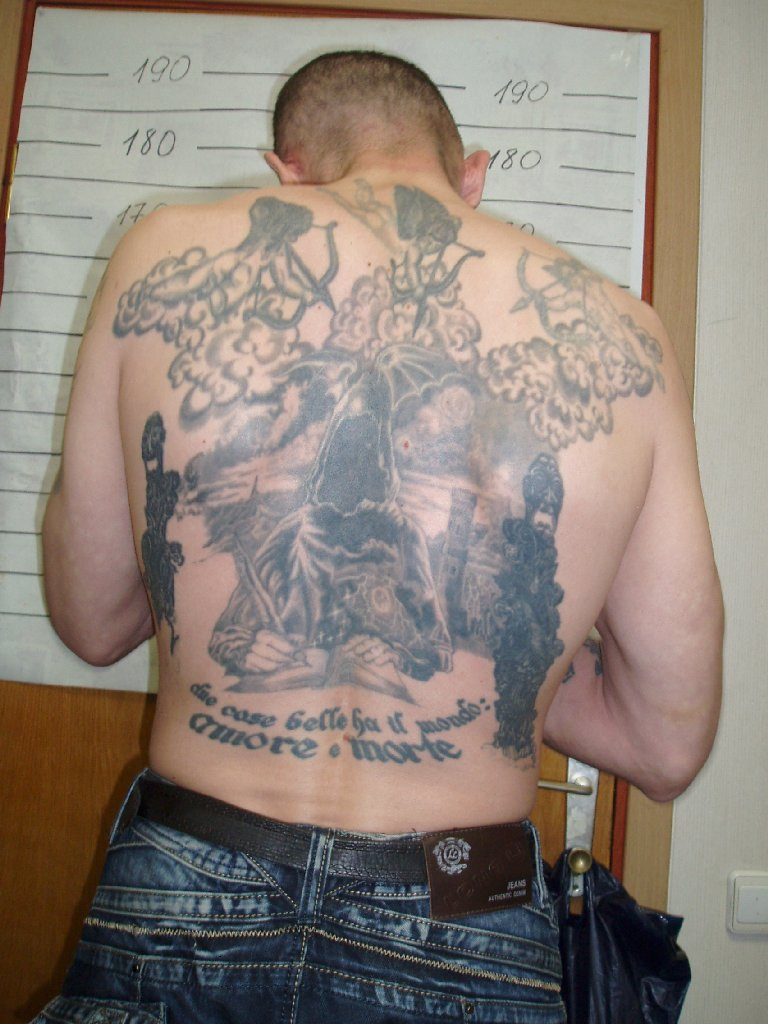tatu1_angel: (108, 188, 347, 352), (311, 179, 490, 347), (510, 233, 675, 401)
tatu3_bukva: (183, 679, 491, 769)
